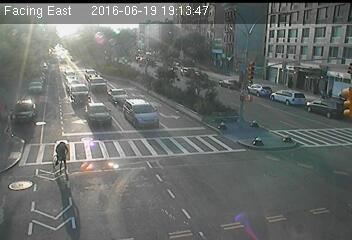neg: (207, 111, 242, 156), (43, 137, 77, 183), (250, 127, 270, 154)
